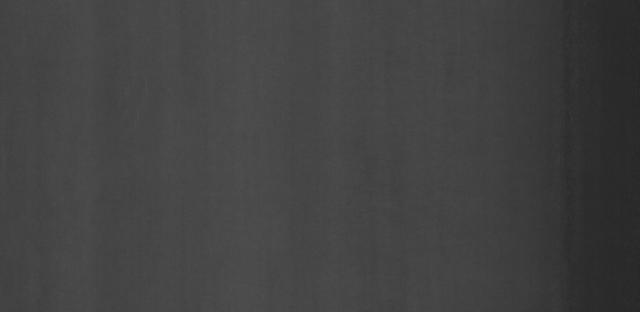silk_spot: (372, 160, 456, 226)
